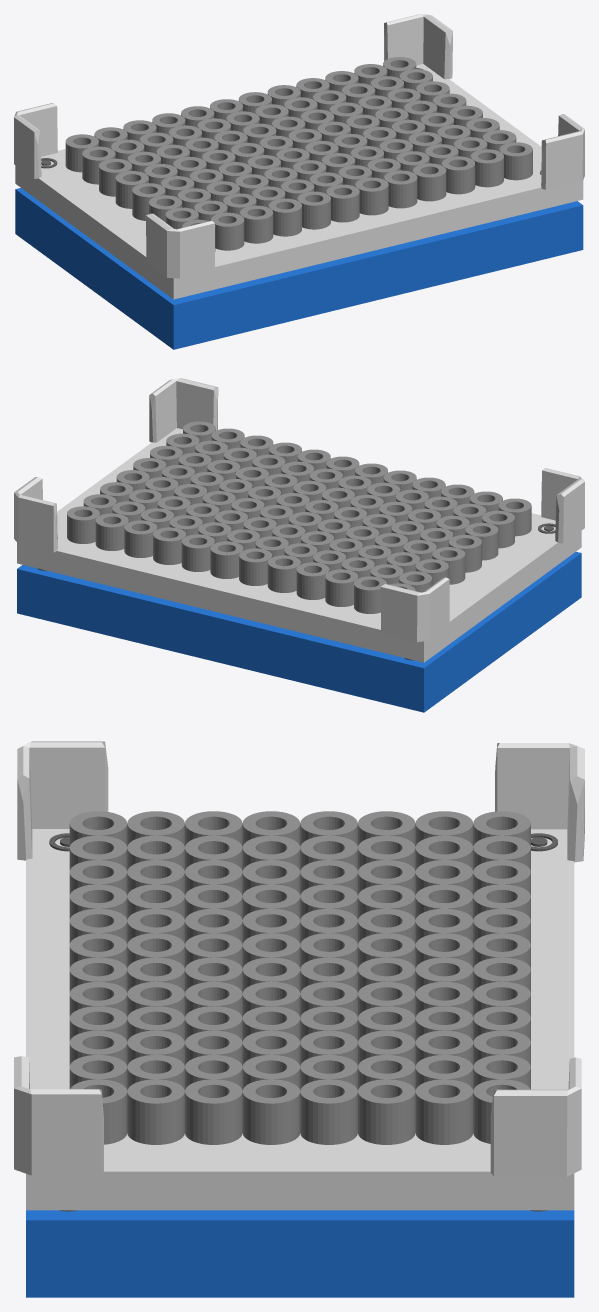
File: Alpaqua Magnum Ex Magnetic Stand.gltf
3 views of the same model, one above another, from view 1: azimuth 30°, elevation 25°; view 2: azimuth 150°, elevation 25°; view 3: azimuth 270°, elevation 25° (orthographic). The views are drawn at different scales.
Visible parts, largest first — view 1: Cylinder, Cube_004, Cube; view 2: Cylinder, Cube_004, Cube; view 3: Cylinder, Cube_004, Cube, Cylinder_001.
Boxes of the visible parts, left/top/right/bottom form: Cylinder: left=65, top=57, right=532, bottom=251; Cube_004: left=14, top=14, right=584, bottom=299; Cube: left=15, top=188, right=583, bottom=349; Cylinder: left=67, top=421, right=531, bottom=613; Cube_004: left=14, top=378, right=584, bottom=662; Cube: left=17, top=551, right=581, bottom=712; Cylinder: left=69, top=811, right=530, bottom=1144; Cube_004: left=14, top=741, right=584, bottom=1210; Cube: left=26, top=1210, right=574, bottom=1297; Cylinder_001: left=49, top=833, right=557, bottom=1211.
Bounding box in the file's own units: 131 × 35.88 × 89.12.
